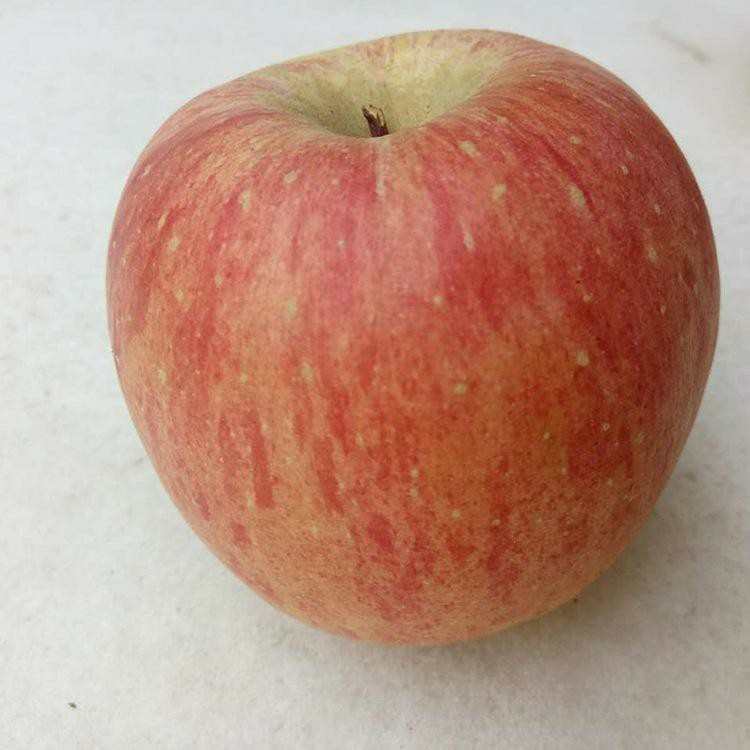normal_apple: (107, 32, 715, 651)
